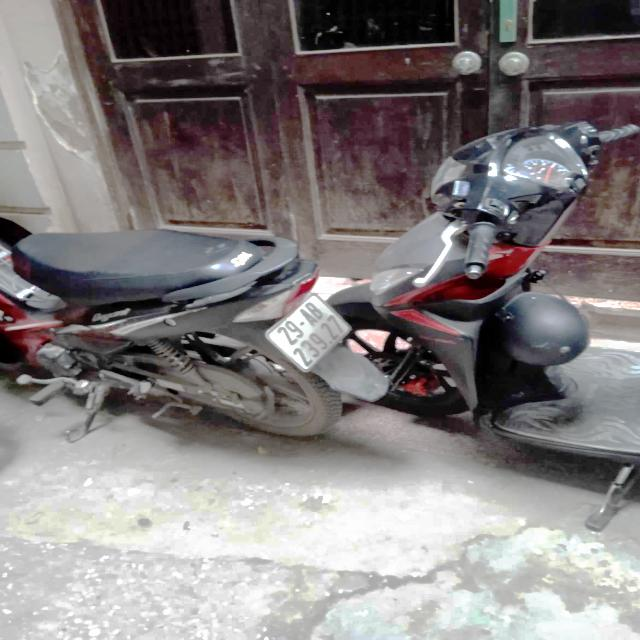license_plate: (264, 293, 354, 374)
